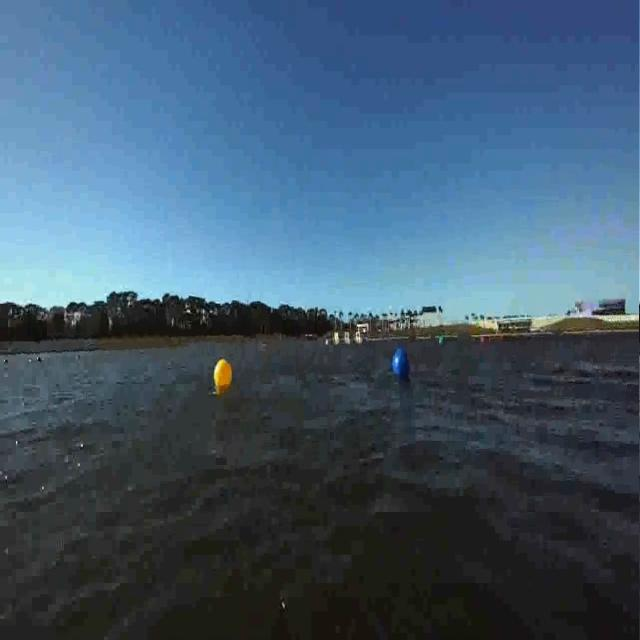blue-buoy: (394, 348, 412, 380), (273, 355, 282, 369)
yellow-buoy: (214, 359, 233, 397)
